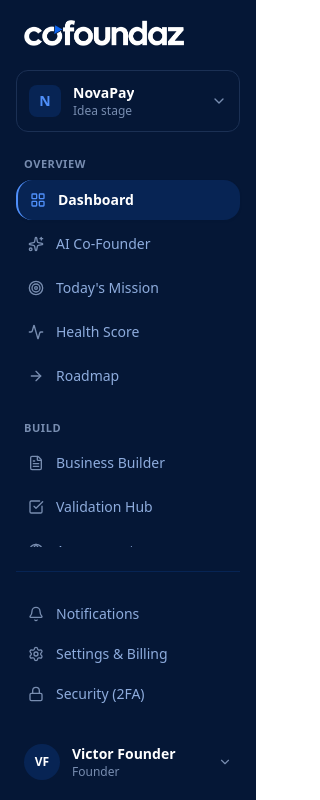
Sidebar (PRD 2.1) › avatar menu: Profile, Preferences, Sign out (PRD 2.1)
The image size is (320, 800).
Click the button "Victor Founder" at point(128, 762), box [16,740,240,784]
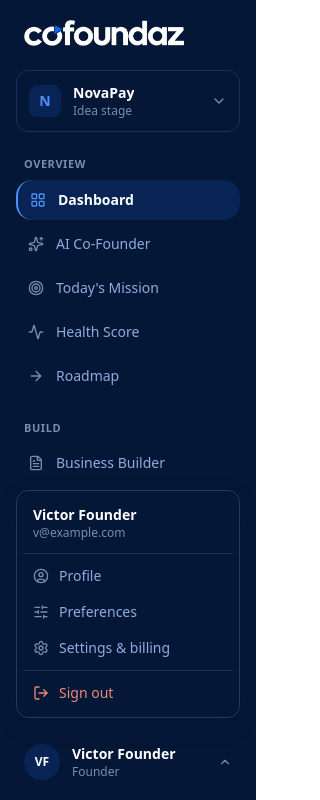
Expected: the menu item "Sign out" is shown, [23,675,233,711]
